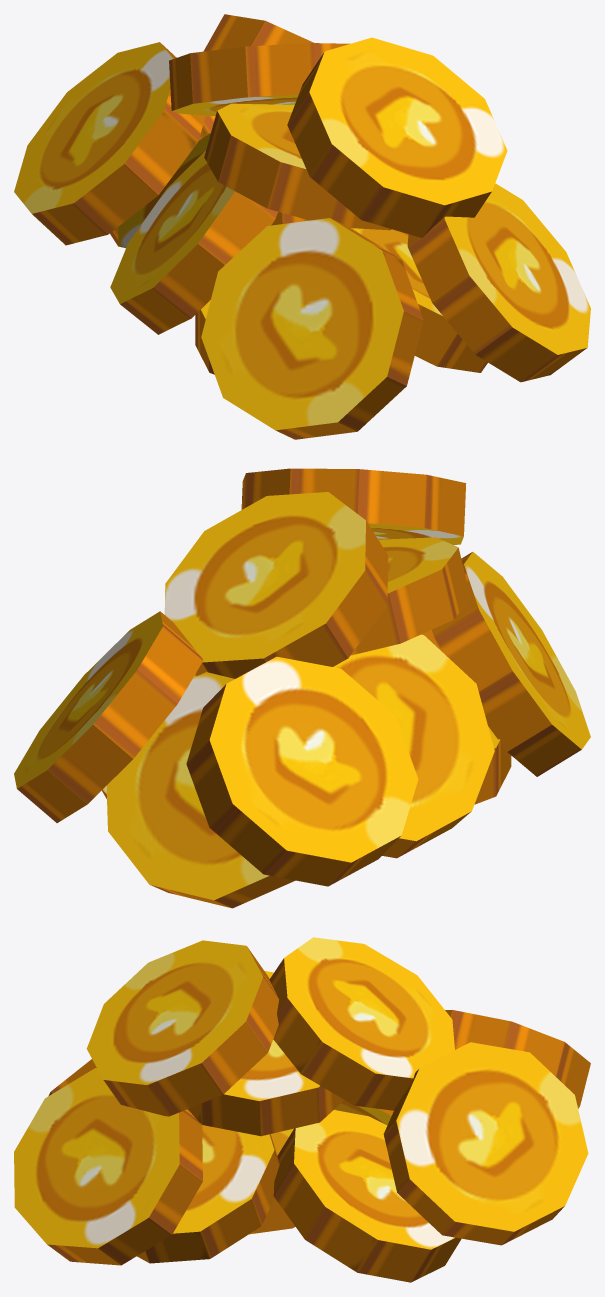
Rendered from Chest_treasure_coins.fbx.
3 renders of one model, top to bottom at view 1: azimuth 30°, elevation 25°; view 2: azimuth 150°, elevation 25°; view 3: azimuth 270°, elevation 25°, orthographic. The views are drawn at different scales.
Parts seen in each view (by area): view 1: Chest_treasure_coins; view 2: Chest_treasure_coins; view 3: Chest_treasure_coins.
Part boxes in pixels (left/top/right/bottom): Chest_treasure_coins: left=14, top=14, right=590, bottom=439; Chest_treasure_coins: left=14, top=468, right=590, bottom=908; Chest_treasure_coins: left=14, top=937, right=590, bottom=1282.
Size of the model in its own units: 90.71 by 75.29 by 140.
